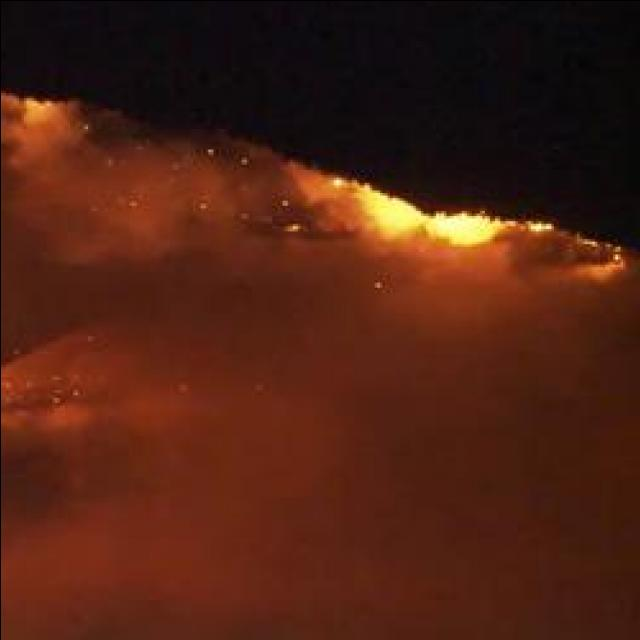fire: (353, 188, 421, 240), (432, 206, 497, 246)
smoke: (0, 150, 211, 276), (0, 417, 137, 549), (553, 248, 630, 461), (369, 245, 533, 342), (283, 160, 333, 216)
